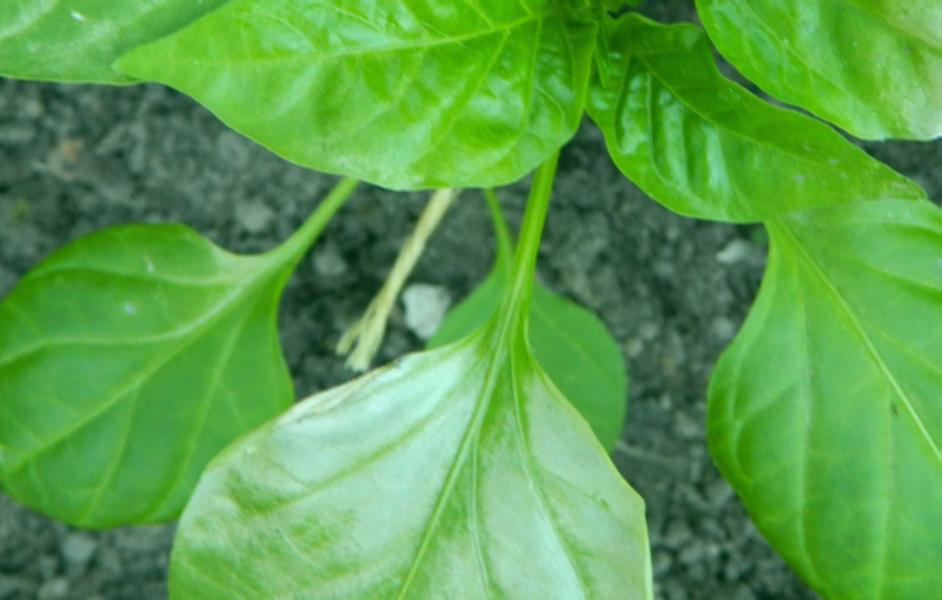Tomato leaf: (614, 45, 942, 600), (134, 0, 589, 198)
